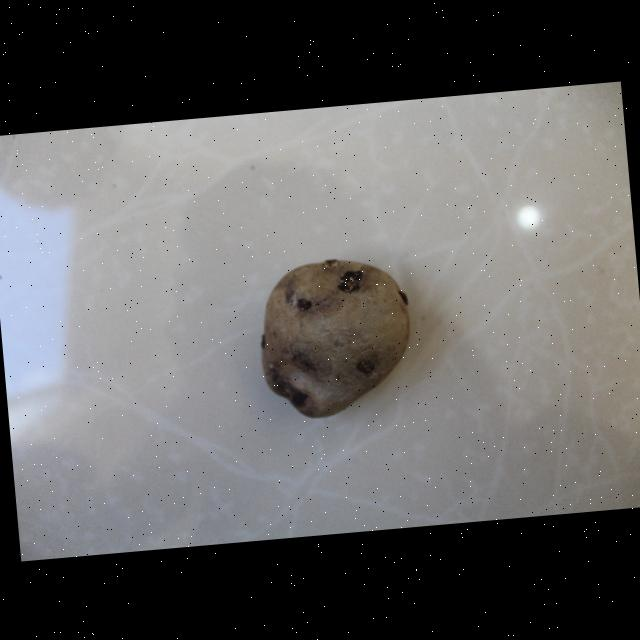Diseased-fungal potato: (249, 248, 422, 423)
